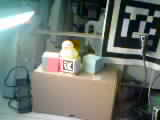duck: (52, 35, 90, 61)
